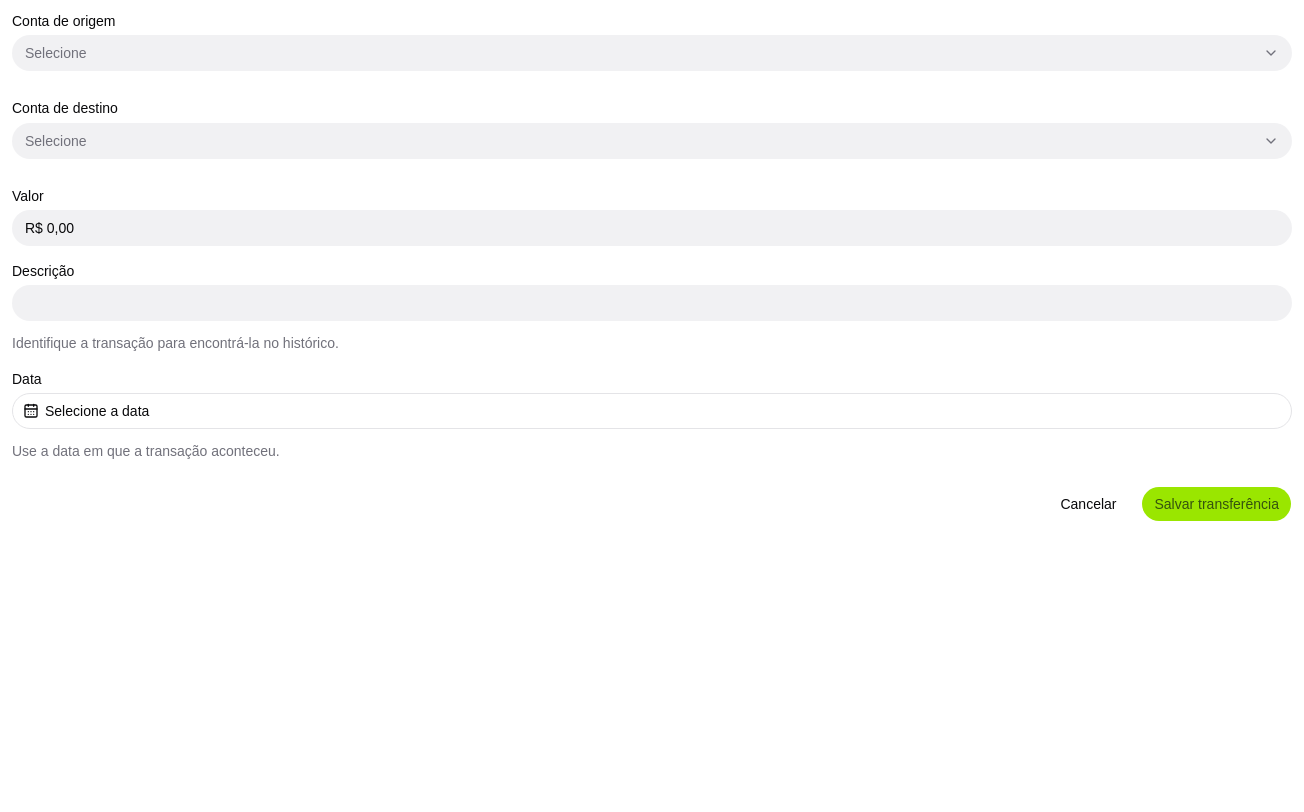
Test case: TransferForm › shows amount validation without submitting
Step 1. Click the button "Salvar transferência" → (1217, 504), box [1142, 486, 1292, 522]
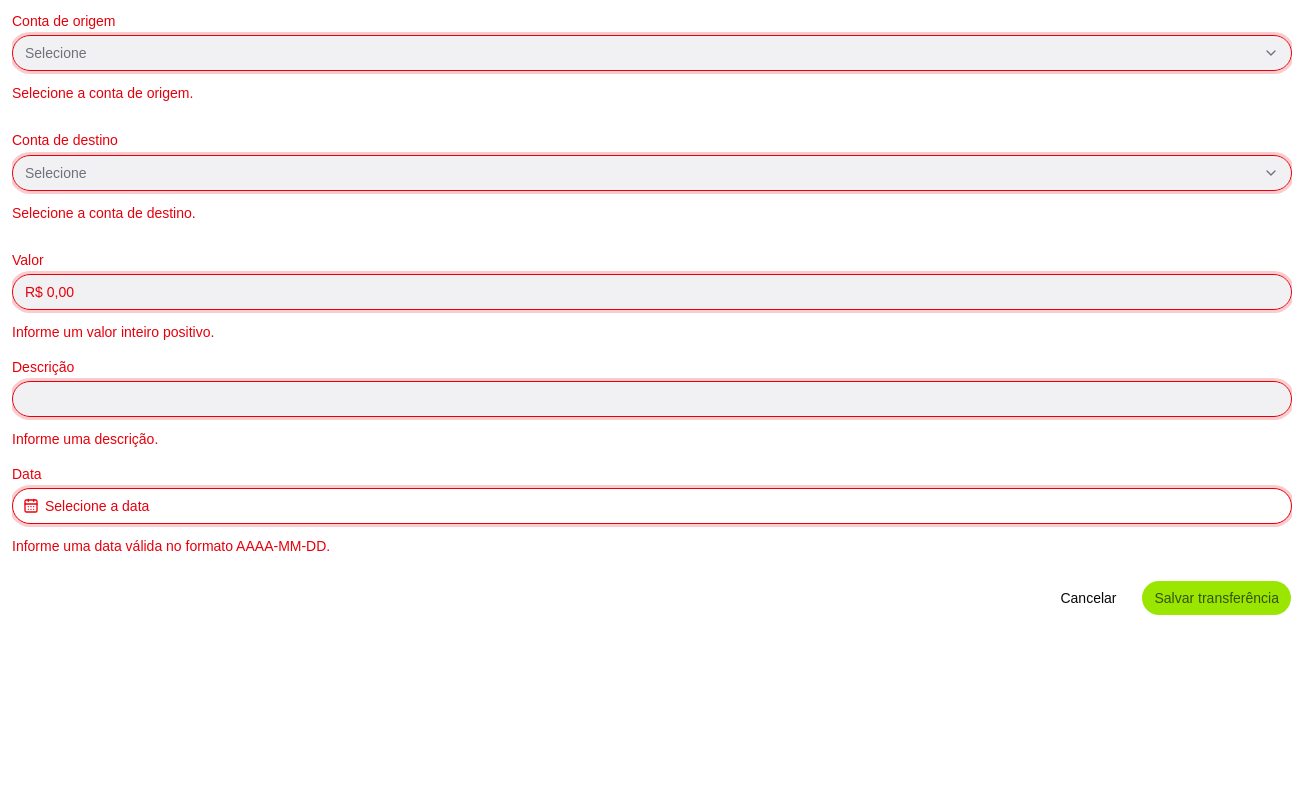
Check: the text "Informe um valor inteiro positivo." is shown, box [12, 324, 214, 340]
